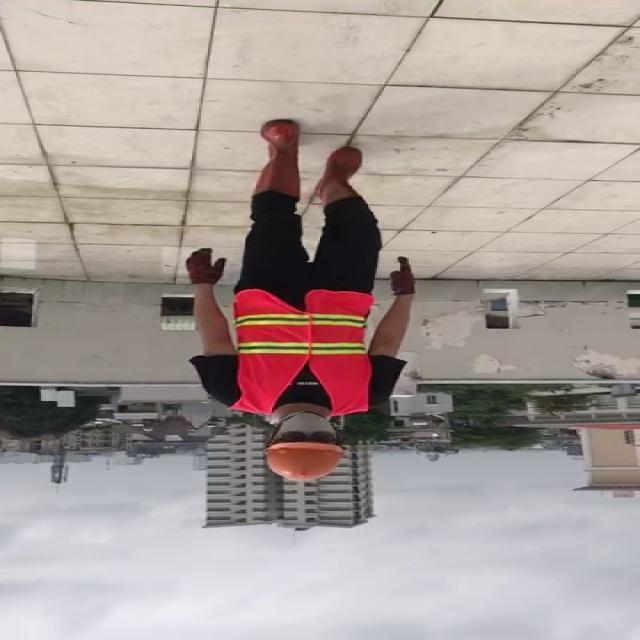gloves: (184, 244, 223, 286), (386, 258, 416, 297)
